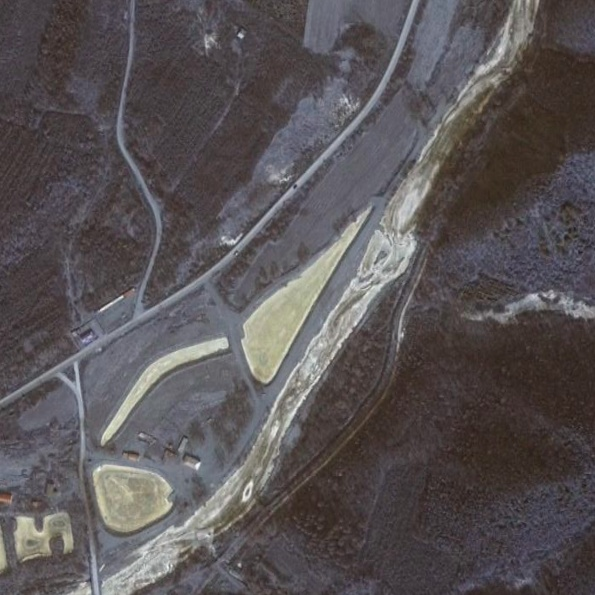slope: (461, 284, 594, 326)
